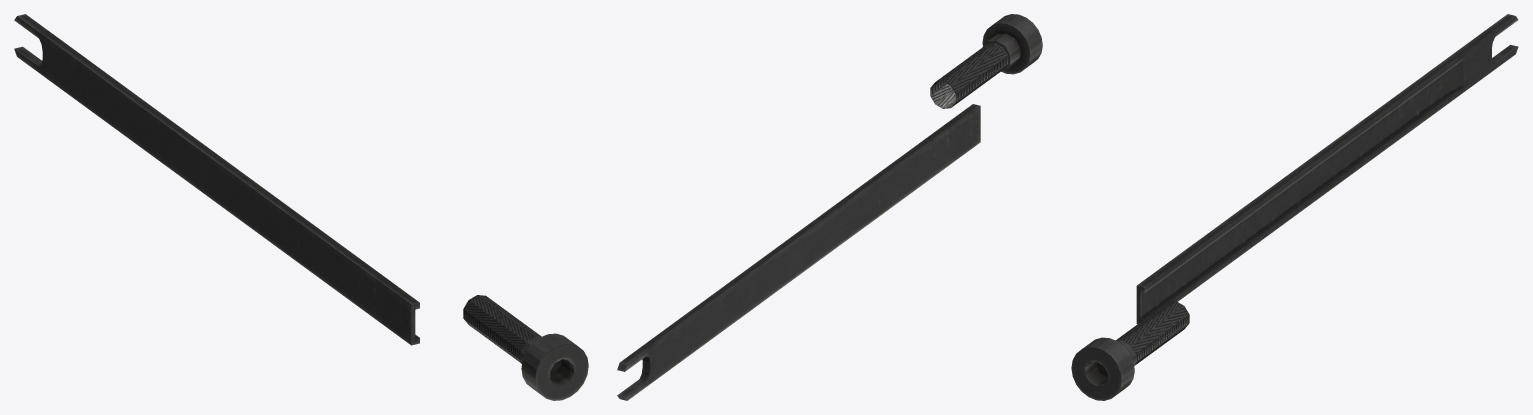
The picture shows the model from 3 angles, left to right: view 1: azimuth 30°, elevation 25°; view 2: azimuth 150°, elevation 25°; view 3: azimuth 330°, elevation 25°; orthographic projection. The views are drawn at different scales.
Parts seen in each view (by area): view 1: TW_661ceb1b9311543c7104149b_PZ_Import; view 2: TW_661ceb1b9311543c7104149b_PZ_Import; view 3: TW_661ceb1b9311543c7104149b_PZ_Import.
Part boxes in pixels (x1=…): TW_661ceb1b9311543c7104149b_PZ_Import: x1=14, y1=14, x2=588, y2=400; TW_661ceb1b9311543c7104149b_PZ_Import: x1=617, y1=14, x2=1042, y2=400; TW_661ceb1b9311543c7104149b_PZ_Import: x1=1071, y1=14, x2=1518, y2=400.
Size of the model in its own units: 0.015 by 0.1588 by 0.0104.
Materials: 1 (1 with a texture image).
